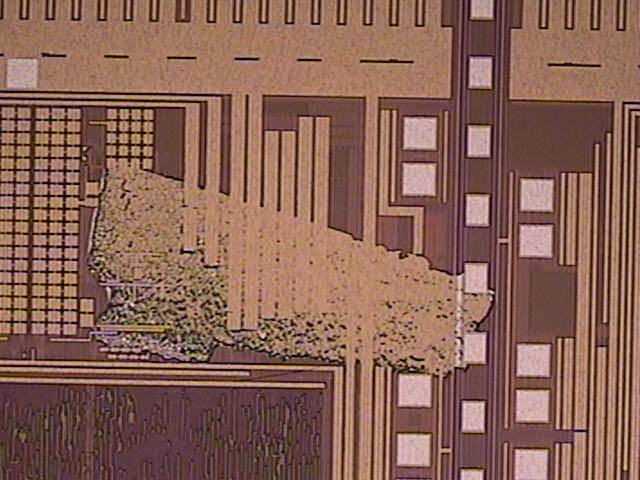BLOCK ETCH: (88, 158, 498, 381)
